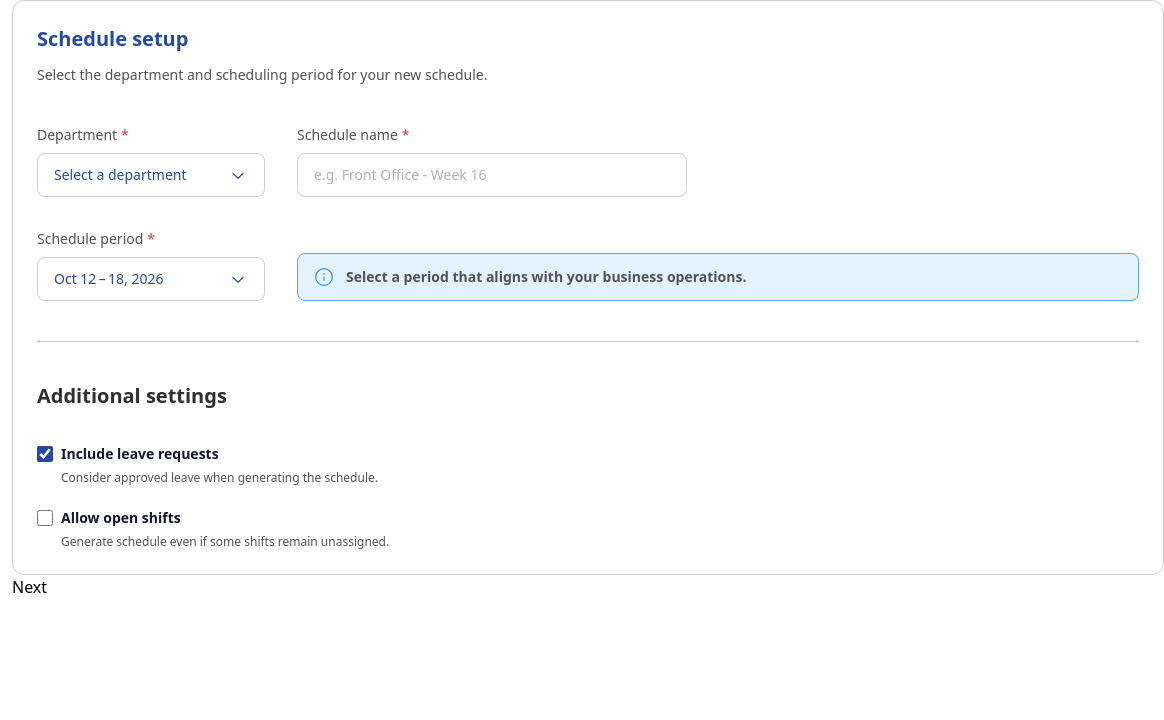
Test case: ScheduleSetupStep › given_theWorkspace_when_departmentsListed_then_offersOnlyActiveOnesWhereSchedulesMayBeCreated
The width and height of the screenshot is (1164, 720).
Click the button "Select a department".
click(151, 175)  # box [37,153,265,197]
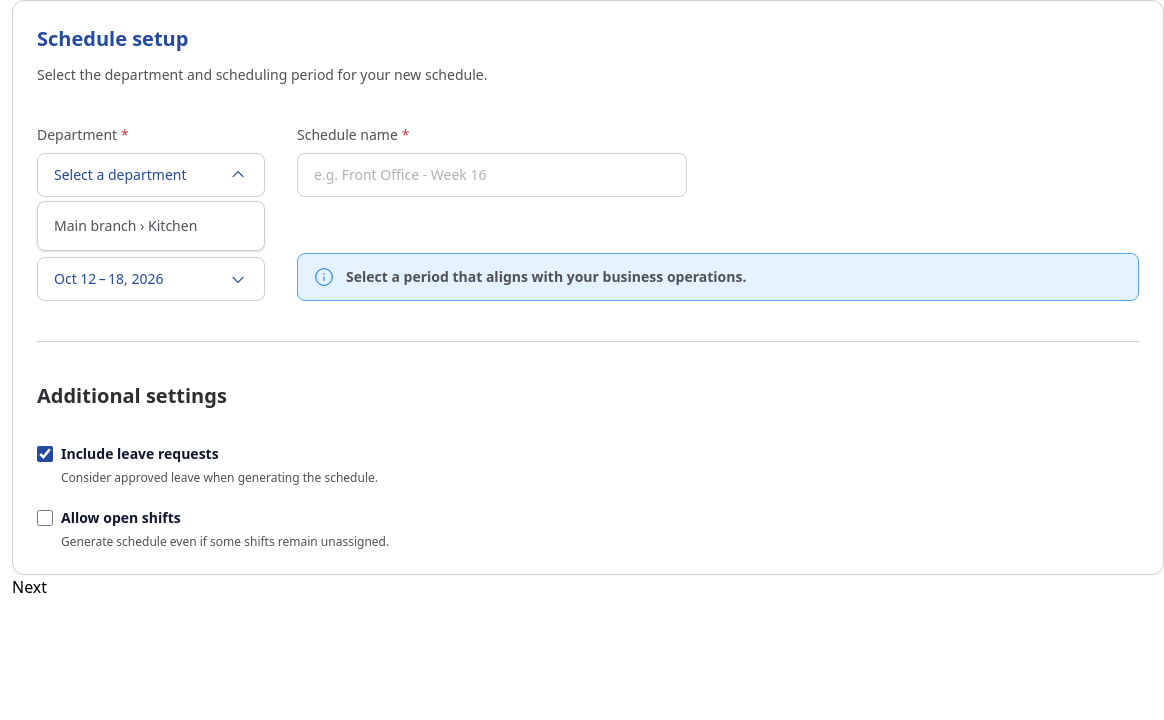
Check: the options read "Main branch › Kitchen", in this order, box [54,216,197,235]
